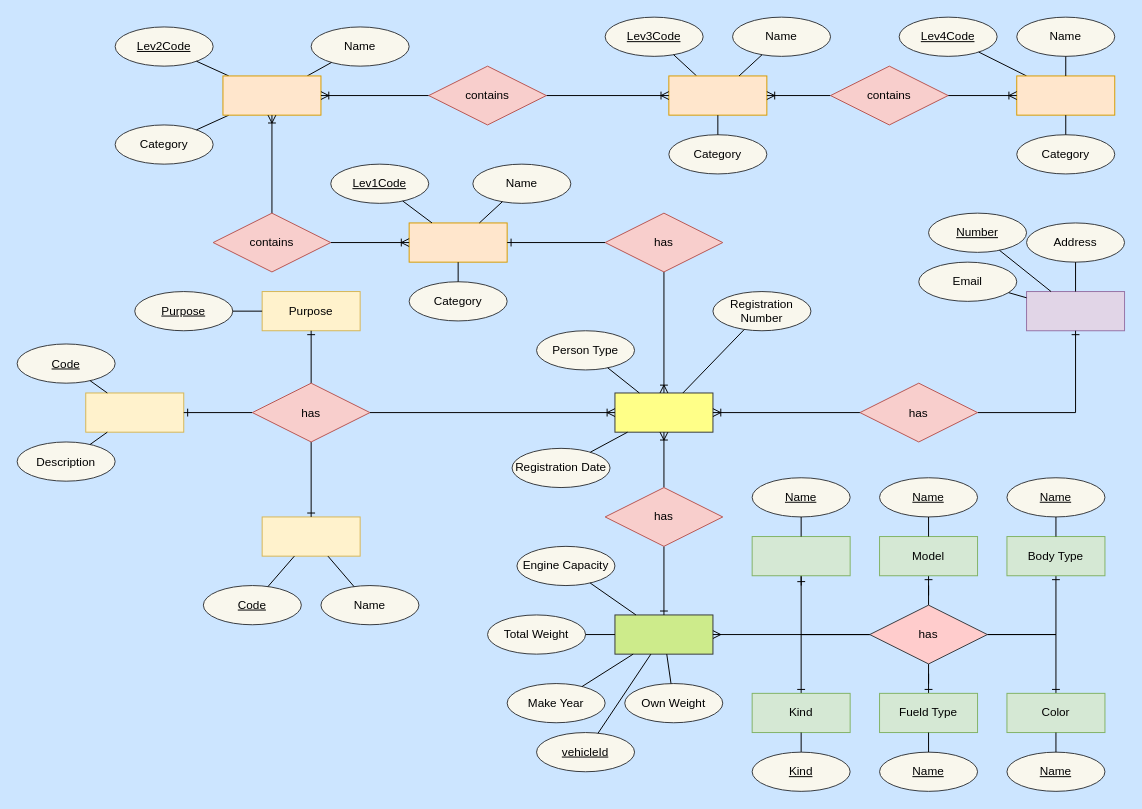
This 1142x809 diagram has some shape labels left out. Here are the shapes that lost their labels. From the top down, the box of each, then its label:
(222, 75, 321, 115): Regions
(668, 75, 767, 115): District
(1016, 75, 1115, 115): Villages
(408, 222, 507, 262): Admin Unit (Special Status)
(1026, 291, 1125, 331): Service Center
(85, 392, 184, 432): Operation
(614, 392, 713, 432): Registration
(261, 516, 360, 556): Department
(751, 536, 850, 576): Brand
(614, 614, 713, 654): Vehicle
